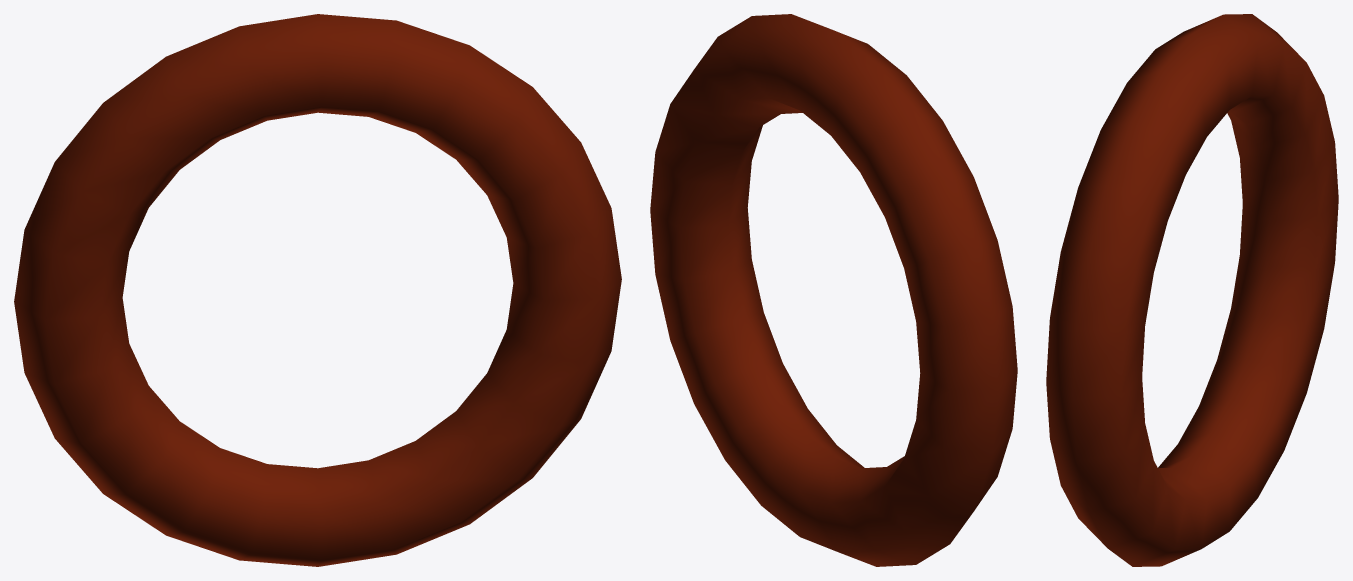
The model's file is ring.glb.
3 views of the same model, side by side, from view 1: azimuth 30°, elevation 25°; view 2: azimuth 150°, elevation 25°; view 3: azimuth 270°, elevation 25° (orthographic). The views are drawn at different scales.
Parts seen in each view (by area): view 1: Object_6; view 2: Object_6; view 3: Object_6.
Boxes of the visible parts, bbox=[...] form: Object_6: bbox=[14, 14, 621, 566]; Object_6: bbox=[650, 14, 1017, 566]; Object_6: bbox=[1046, 14, 1338, 566].
Bounding box in the file's own units: 1.46 × 1.61 × 0.8297.
Materials: 1 (1 with a texture image).
